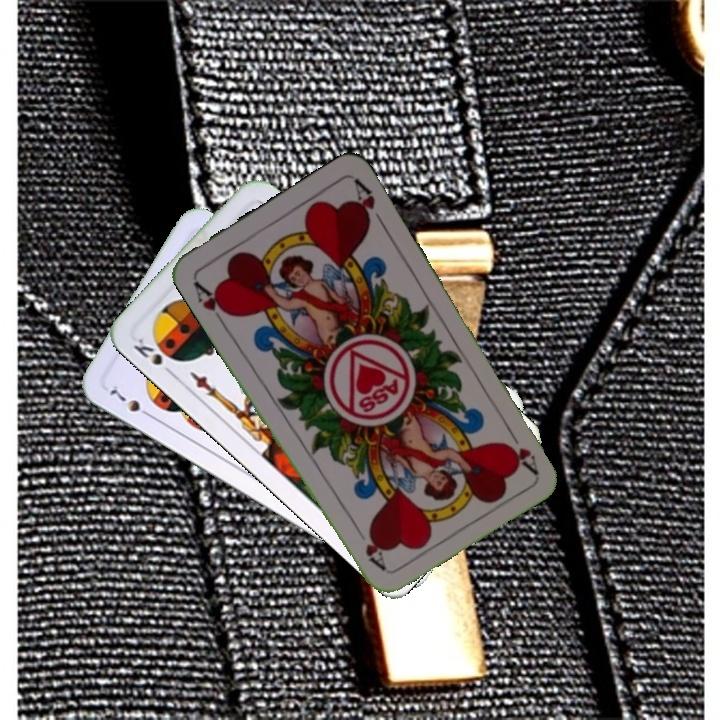HA: (189, 277, 235, 328), (501, 422, 540, 476)
S7: (105, 384, 156, 421)
SK: (129, 334, 178, 379)
